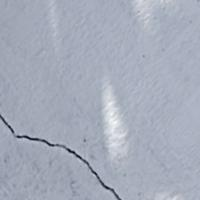crack: (0, 88, 128, 199)
